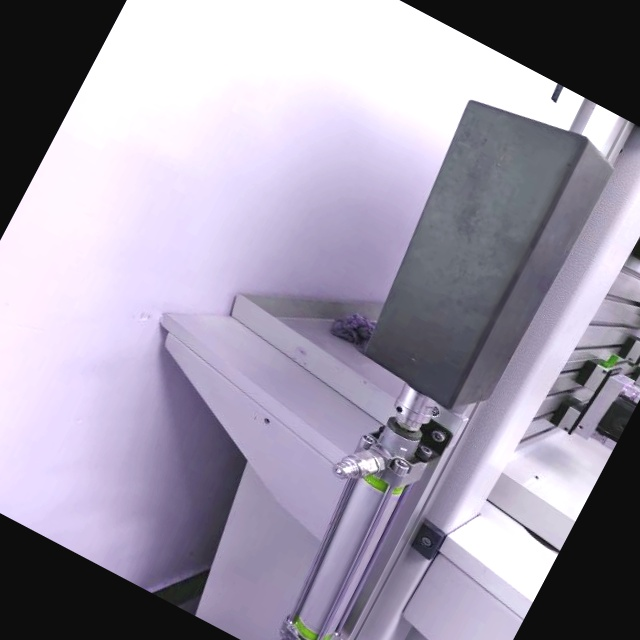load: (190, 58, 640, 640)
